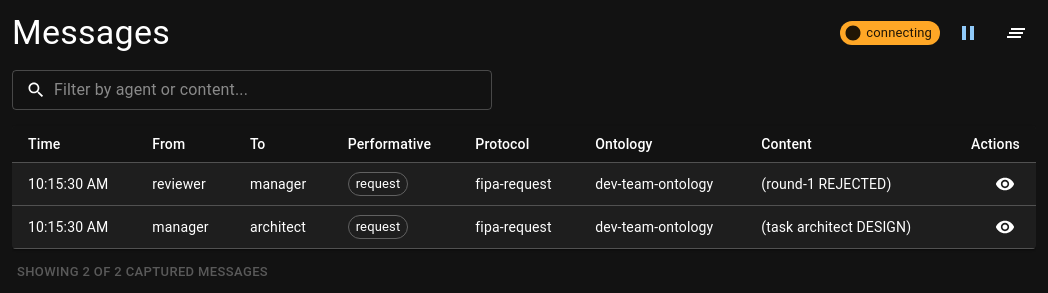
Scenario: MessagesPage › Given filter text entered, When messages match content, Then only matching rows are shown
This screenshot has width=1048, height=293.
Expected: the text "(round-1 REJECTED)" is shown, [745,163,946,206]
# --- Act ---
Type "REJECTED" into the field with placeholder "Filter by agent or content..." at [273, 90], box [54,70,492,110]
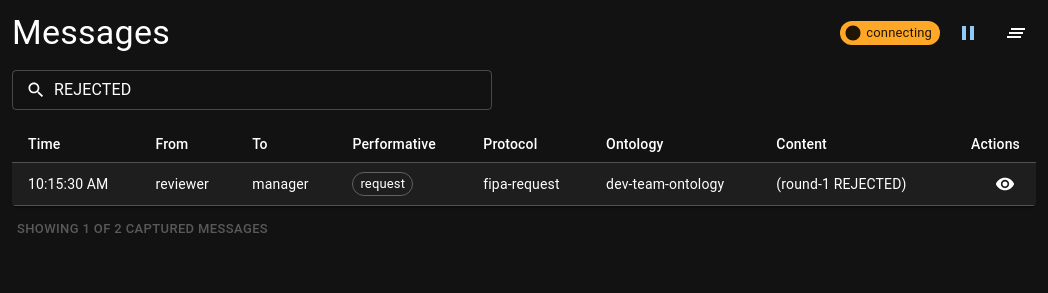
Expected: the text "(round-1 REJECTED)" is shown, [760,163,944,206]
Expected: the text "(task architect DESIGN)" is gone
